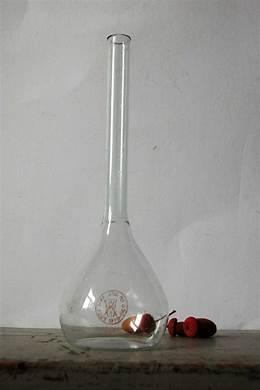Volumetric flask: (60, 23, 167, 355)
